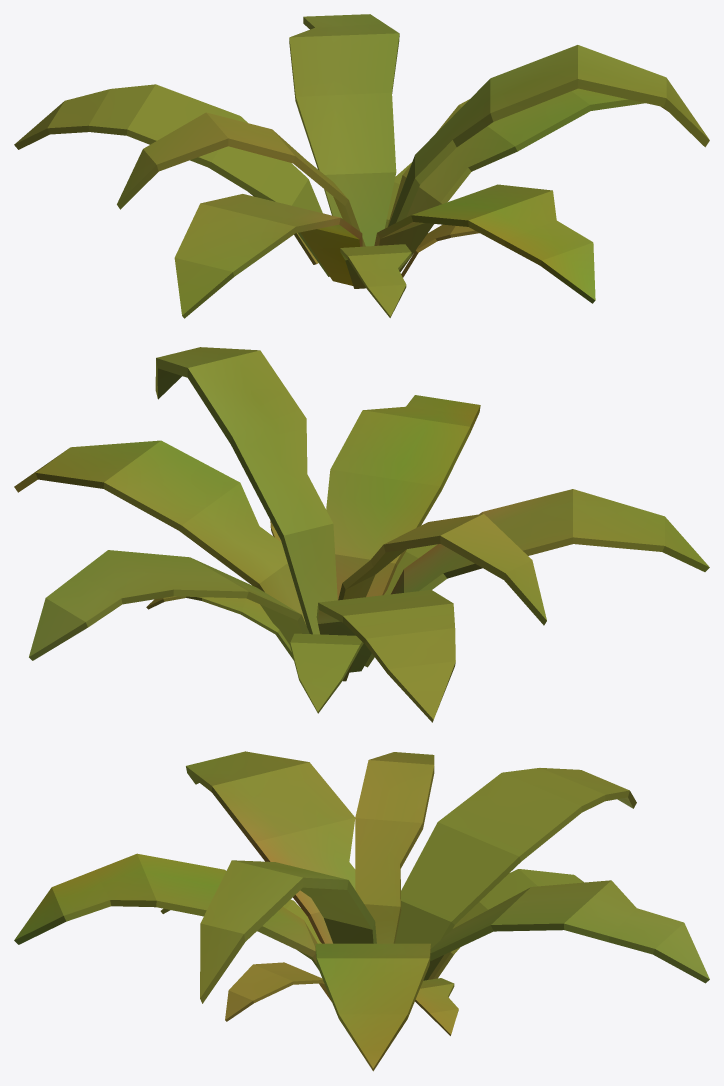
Rendered from mega-pack-plane-186.glb.
3 renders of one model, top to bottom at view 1: azimuth 30°, elevation 25°; view 2: azimuth 150°, elevation 25°; view 3: azimuth 270°, elevation 25°, orthographic. The views are drawn at different scales.
Parts seen in each view (by area): view 1: Plane.186; view 2: Plane.186; view 3: Plane.186.
Part boxes in pixels (x1,y1,x2,y2): Plane.186: (14, 14, 709, 318); Plane.186: (14, 347, 709, 722); Plane.186: (14, 751, 709, 1071).
Size of the model in its own units: 0.9682 by 0.3381 by 0.9802.
1 material, 1 textured.
